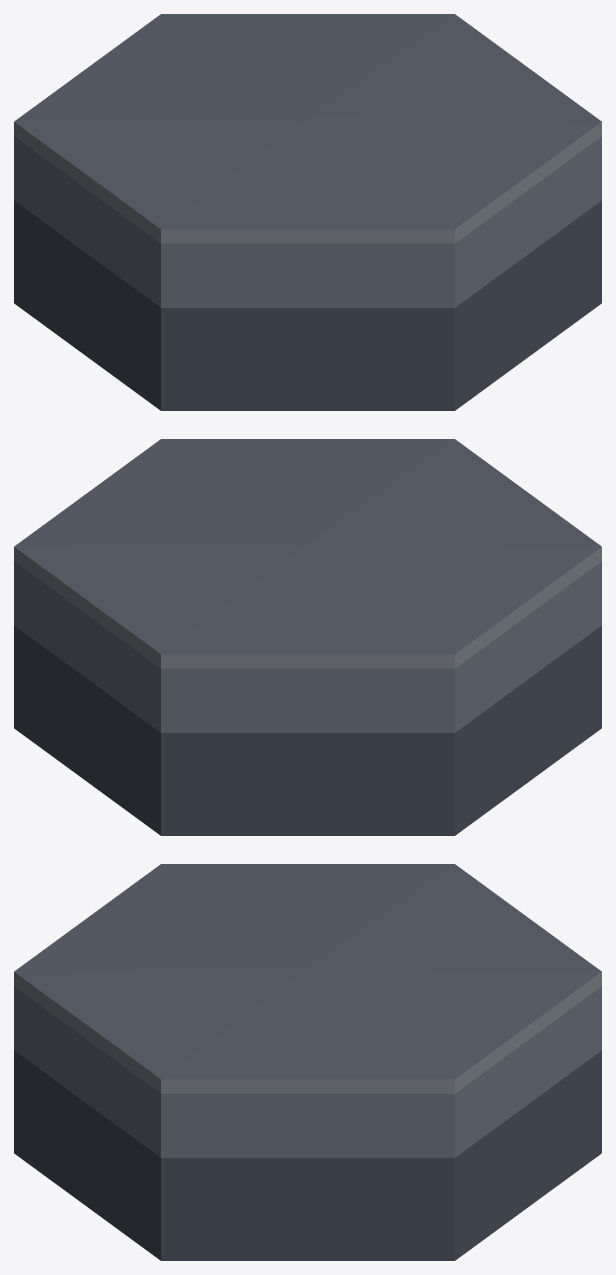
Rendered from AW-HEX-MOON-BASALT-v0.1.glb.
The picture shows the model from 3 angles, top to bottom: view 1: azimuth 30°, elevation 25°; view 2: azimuth 150°, elevation 25°; view 3: azimuth 270°, elevation 25°; orthographic projection.
Parts seen in each view (by area): view 1: AW-HEX-MOON-BASALT-v01; view 2: AW-HEX-MOON-BASALT-v01; view 3: AW-HEX-MOON-BASALT-v01.
Part boxes in pixels (bbox=[...]): AW-HEX-MOON-BASALT-v01: bbox=[14, 14, 601, 410]; AW-HEX-MOON-BASALT-v01: bbox=[14, 439, 601, 835]; AW-HEX-MOON-BASALT-v01: bbox=[14, 864, 601, 1260].
Size of the model in its own units: 3.81 by 1.54 by 4.4.
